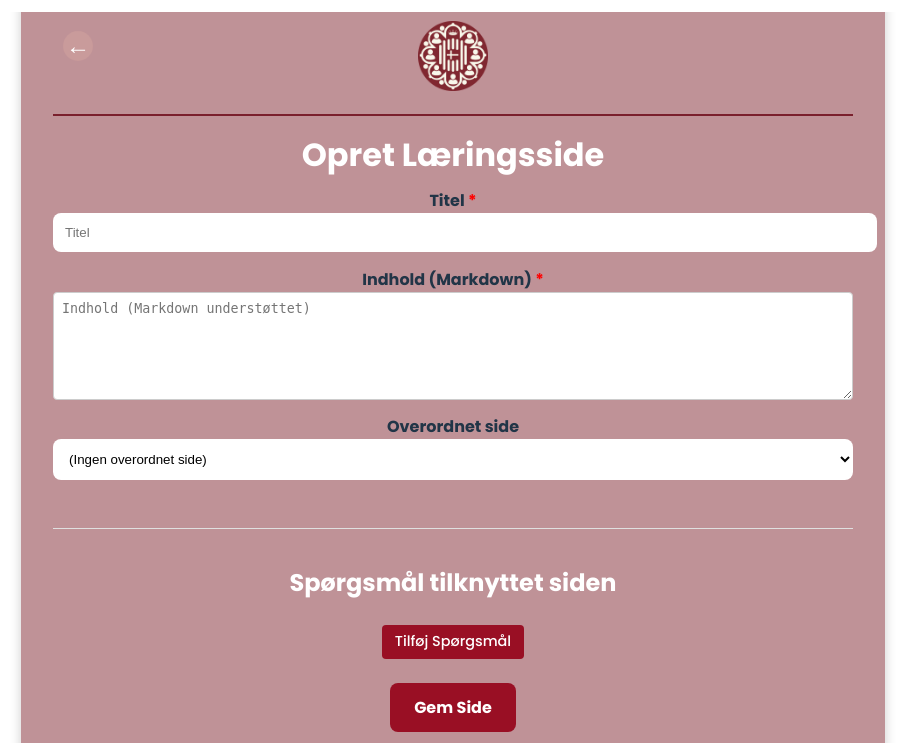
AddLearningPage › can add and remove answer options for a question
This screenshot has width=907, height=743.
(page scrolled)
Click the button "Tilføj Spørgsmål".
click(453, 642)  # box [382,624,524,659]
(page scrolled)
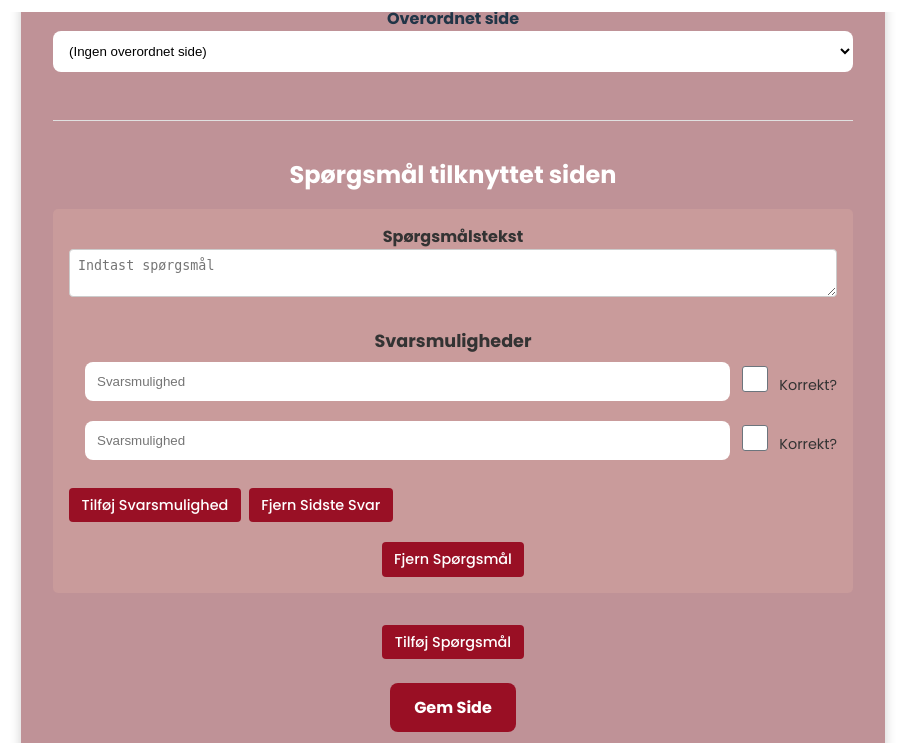
Result: the number of fields with placeholder "Svarsmulighed" is 2 at [85,362,730,401]; [85,421,730,460]
Click the button "Tilføj Svarsmulighed".
click(155, 505)  # box [69,488,241,522]
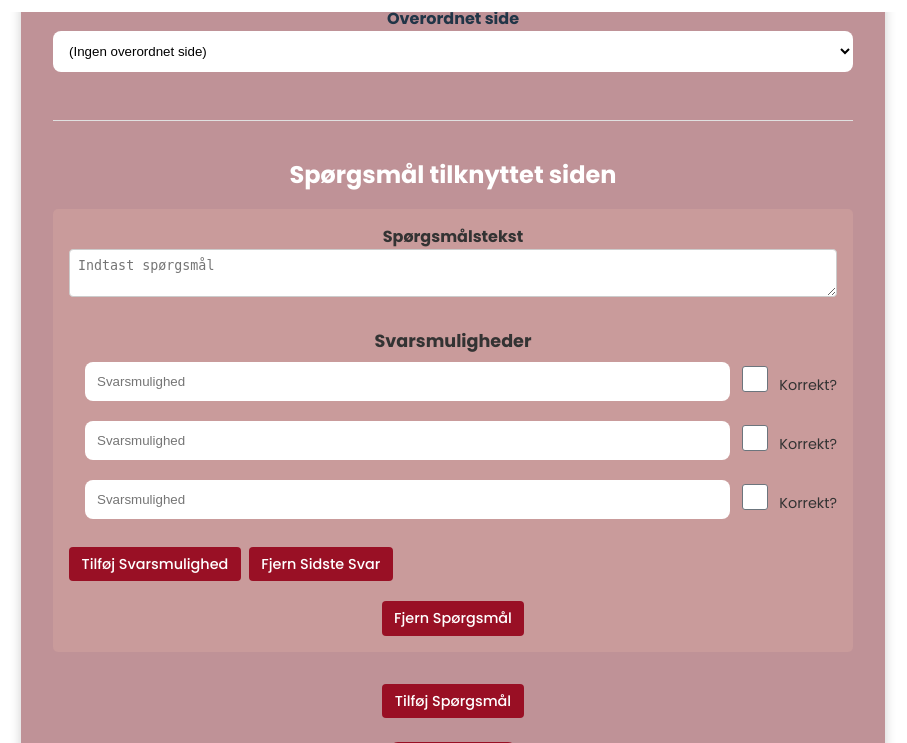
Result: the number of fields with placeholder "Svarsmulighed" is 3 at [85,362,730,401]; [85,421,730,460]; [85,480,730,519]
Click the button "Fjern Sidste Svar".
click(321, 564)  # box [249,547,393,581]
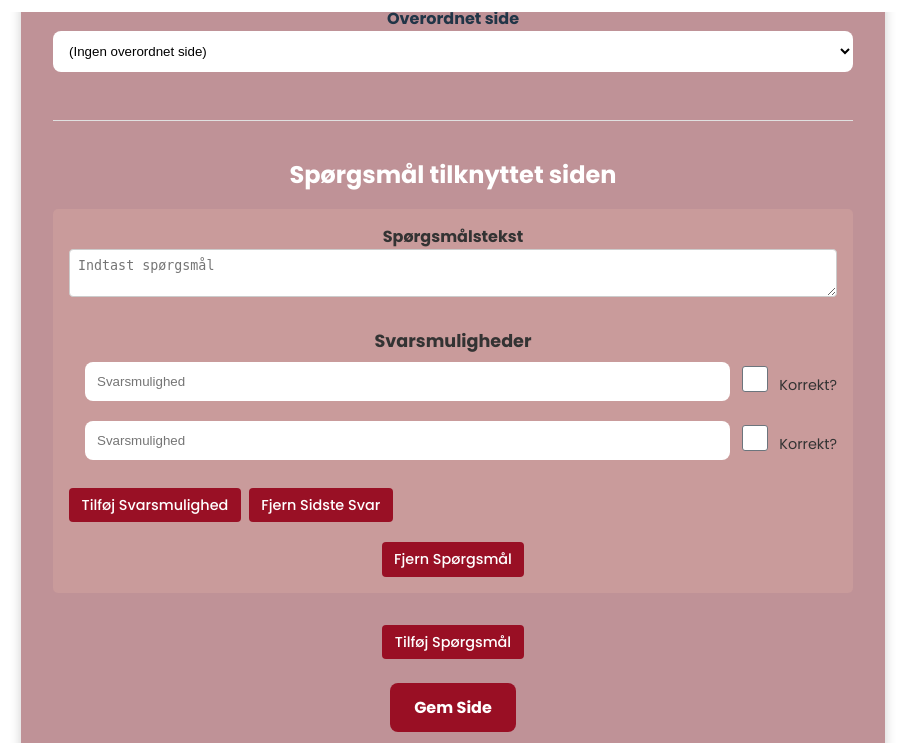
Result: the number of fields with placeholder "Svarsmulighed" is 2 at [85,362,730,401]; [85,421,730,460]
